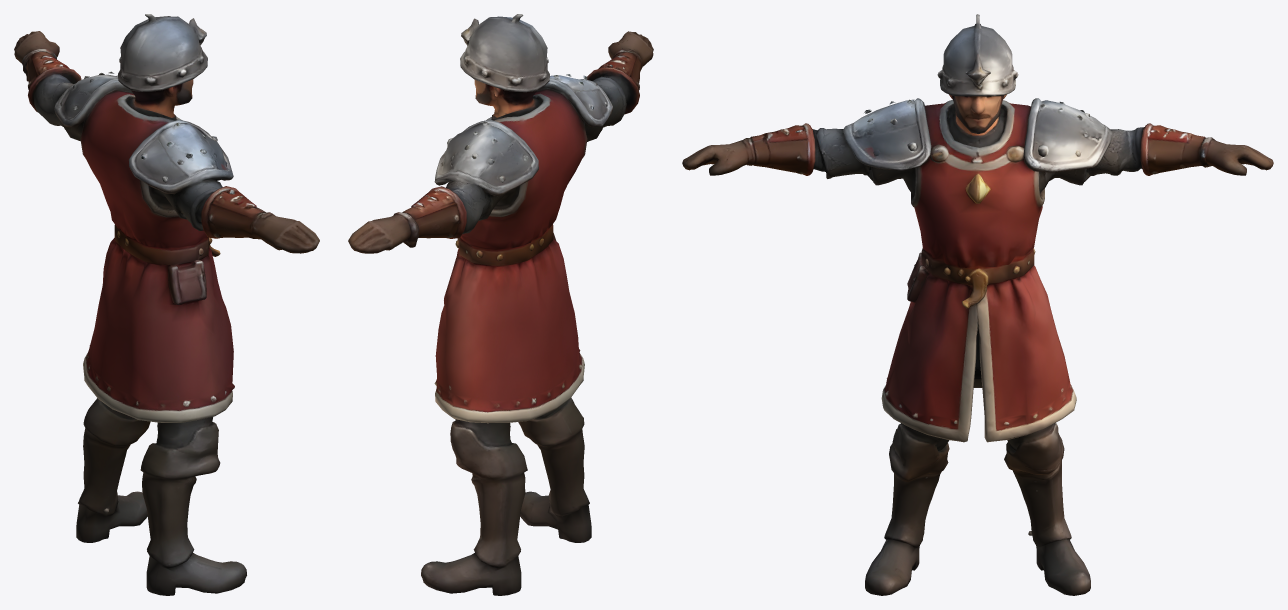
The picture shows the model from 3 angles, left to right: view 1: azimuth 30°, elevation 25°; view 2: azimuth 150°, elevation 25°; view 3: azimuth 270°, elevation 25°; orthographic projection. The views are drawn at different scales.
Parts seen in each view (by area): view 1: tripo_node_063042de-f2f2-47ba-aace-f6b6d43796ee; view 2: tripo_node_063042de-f2f2-47ba-aace-f6b6d43796ee; view 3: tripo_node_063042de-f2f2-47ba-aace-f6b6d43796ee.
Part boxes in pixels (x1=…): tripo_node_063042de-f2f2-47ba-aace-f6b6d43796ee: x1=14, y1=14, x2=319, y2=595; tripo_node_063042de-f2f2-47ba-aace-f6b6d43796ee: x1=348, y1=14, x2=653, y2=595; tripo_node_063042de-f2f2-47ba-aace-f6b6d43796ee: x1=682, y1=14, x2=1273, y2=595.
Bounding box in the file's own units: 0.225 × 1 × 0.9569.
Materials: 1 (1 with a texture image).
